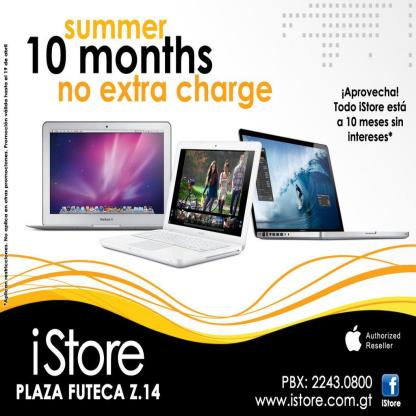board: (100, 142, 262, 268), (239, 127, 409, 241), (25, 119, 172, 232)
